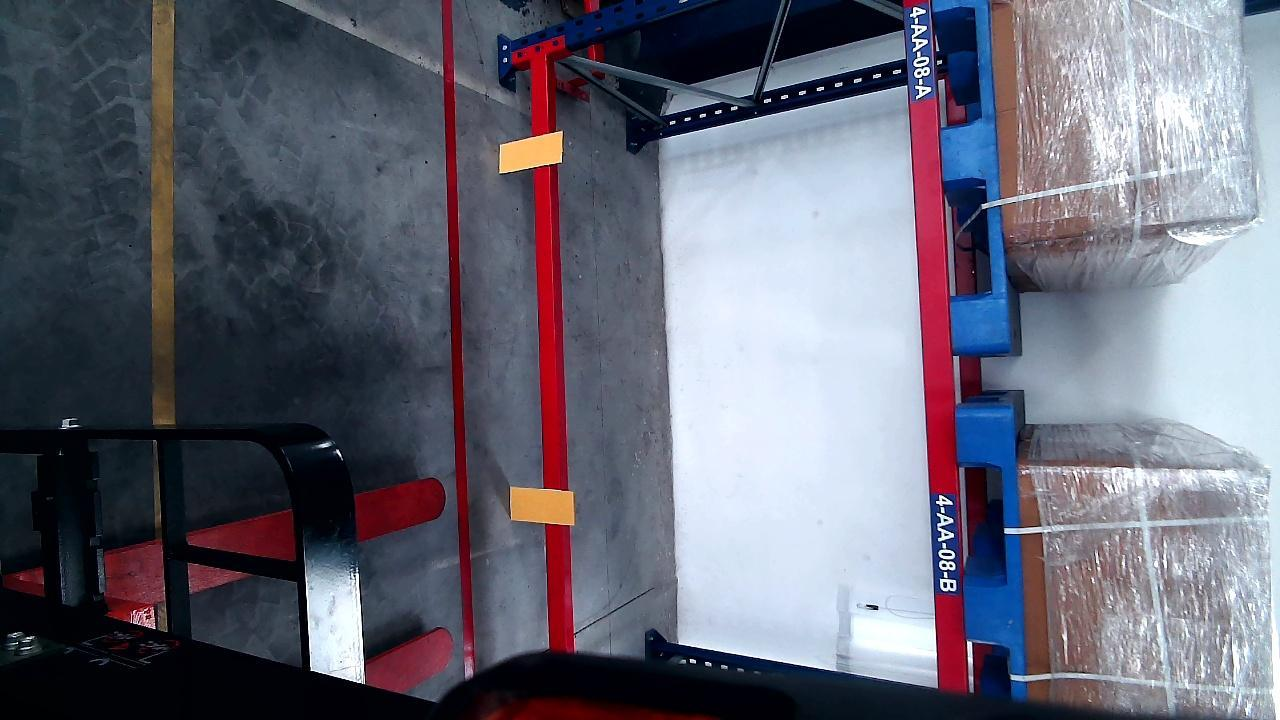red_line: (438, 0, 473, 677)
yellow_line: (148, 0, 177, 427)
